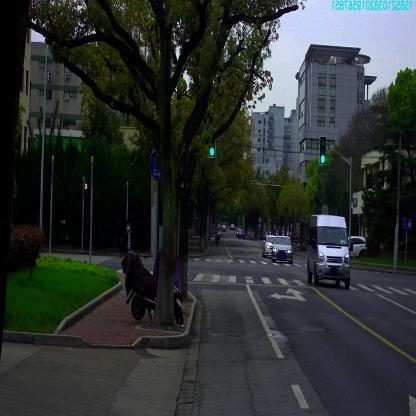traffic-light: (209, 130, 216, 157), (320, 136, 326, 164)
